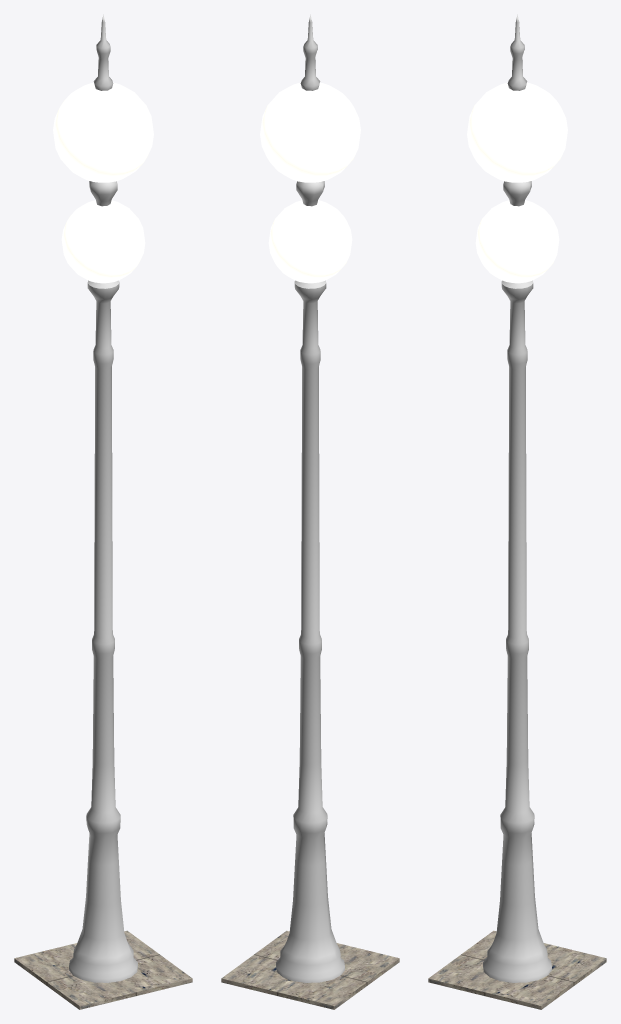
The model's file is SM_Molo_Lampione2Globi.fbx.
The picture shows the model from 3 angles, left to right: view 1: azimuth 30°, elevation 25°; view 2: azimuth 150°, elevation 25°; view 3: azimuth 330°, elevation 25°; orthographic projection.
Visible parts, largest first — view 1: SM_Molo_Lampione2Globi; view 2: SM_Molo_Lampione2Globi; view 3: SM_Molo_Lampione2Globi.
Boxes of the visible parts, x1=… form: SM_Molo_Lampione2Globi: x1=14, y1=14, x2=192, y2=1009; SM_Molo_Lampione2Globi: x1=221, y1=14, x2=399, y2=1009; SM_Molo_Lampione2Globi: x1=428, y1=14, x2=606, y2=1009.
Size of what is drawn, in the model's own units: 90 by 90 by 729.
Materials: 3 (1 with a texture image).
